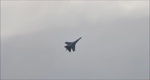maybay_muctieu: (65, 36, 82, 54)
